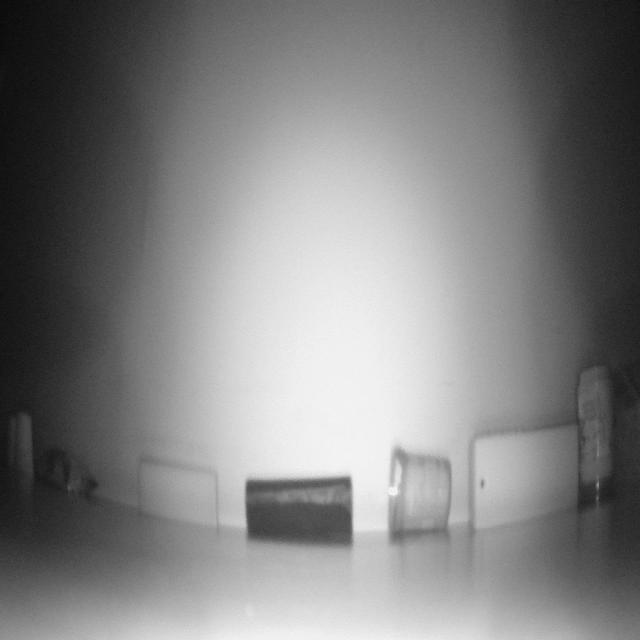targets: (469, 430, 581, 521), (246, 473, 356, 545), (135, 455, 221, 535), (389, 449, 453, 538), (600, 372, 640, 492), (582, 366, 614, 499), (36, 435, 91, 508), (12, 414, 40, 484)
